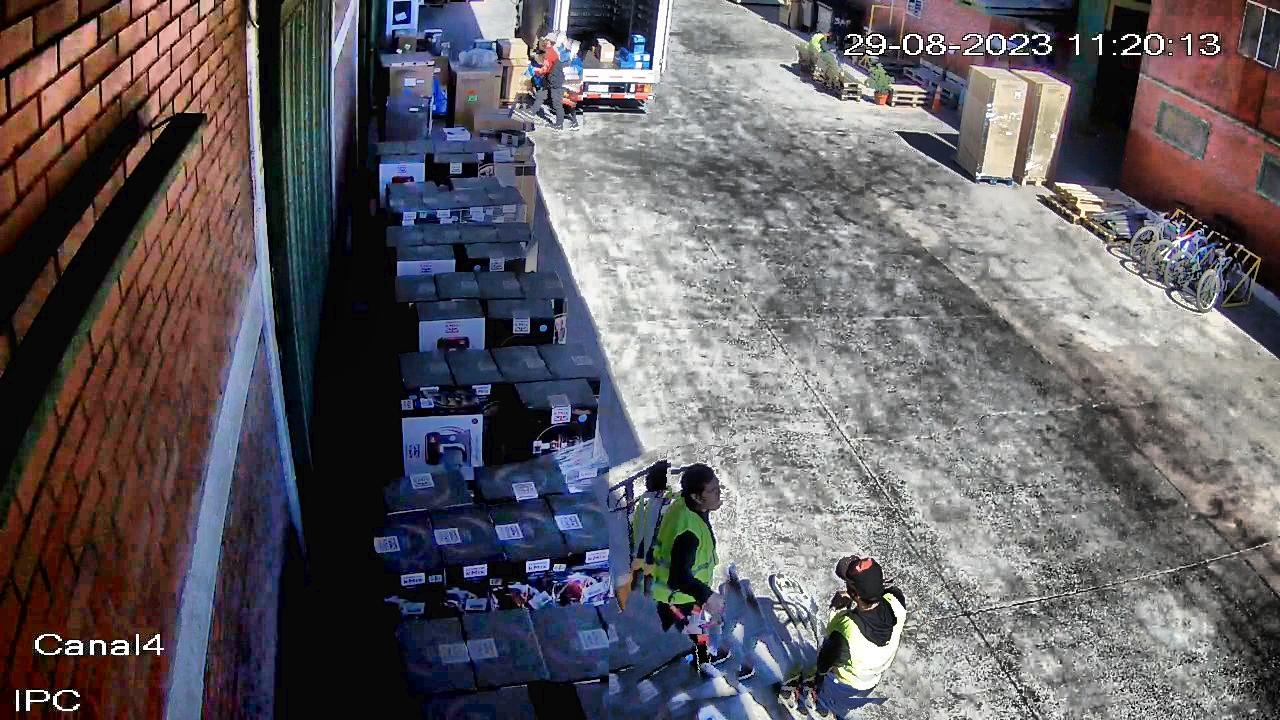con-casco: (540, 30, 567, 54)
con-chaleco: (644, 498, 734, 635), (816, 583, 917, 699), (809, 33, 837, 67)
persona: (610, 447, 766, 713), (787, 528, 930, 720), (516, 28, 584, 132), (802, 27, 845, 89)
sin-casco: (822, 553, 893, 624), (672, 455, 738, 529), (814, 23, 838, 42)
sin-chaleco: (531, 50, 576, 88)
